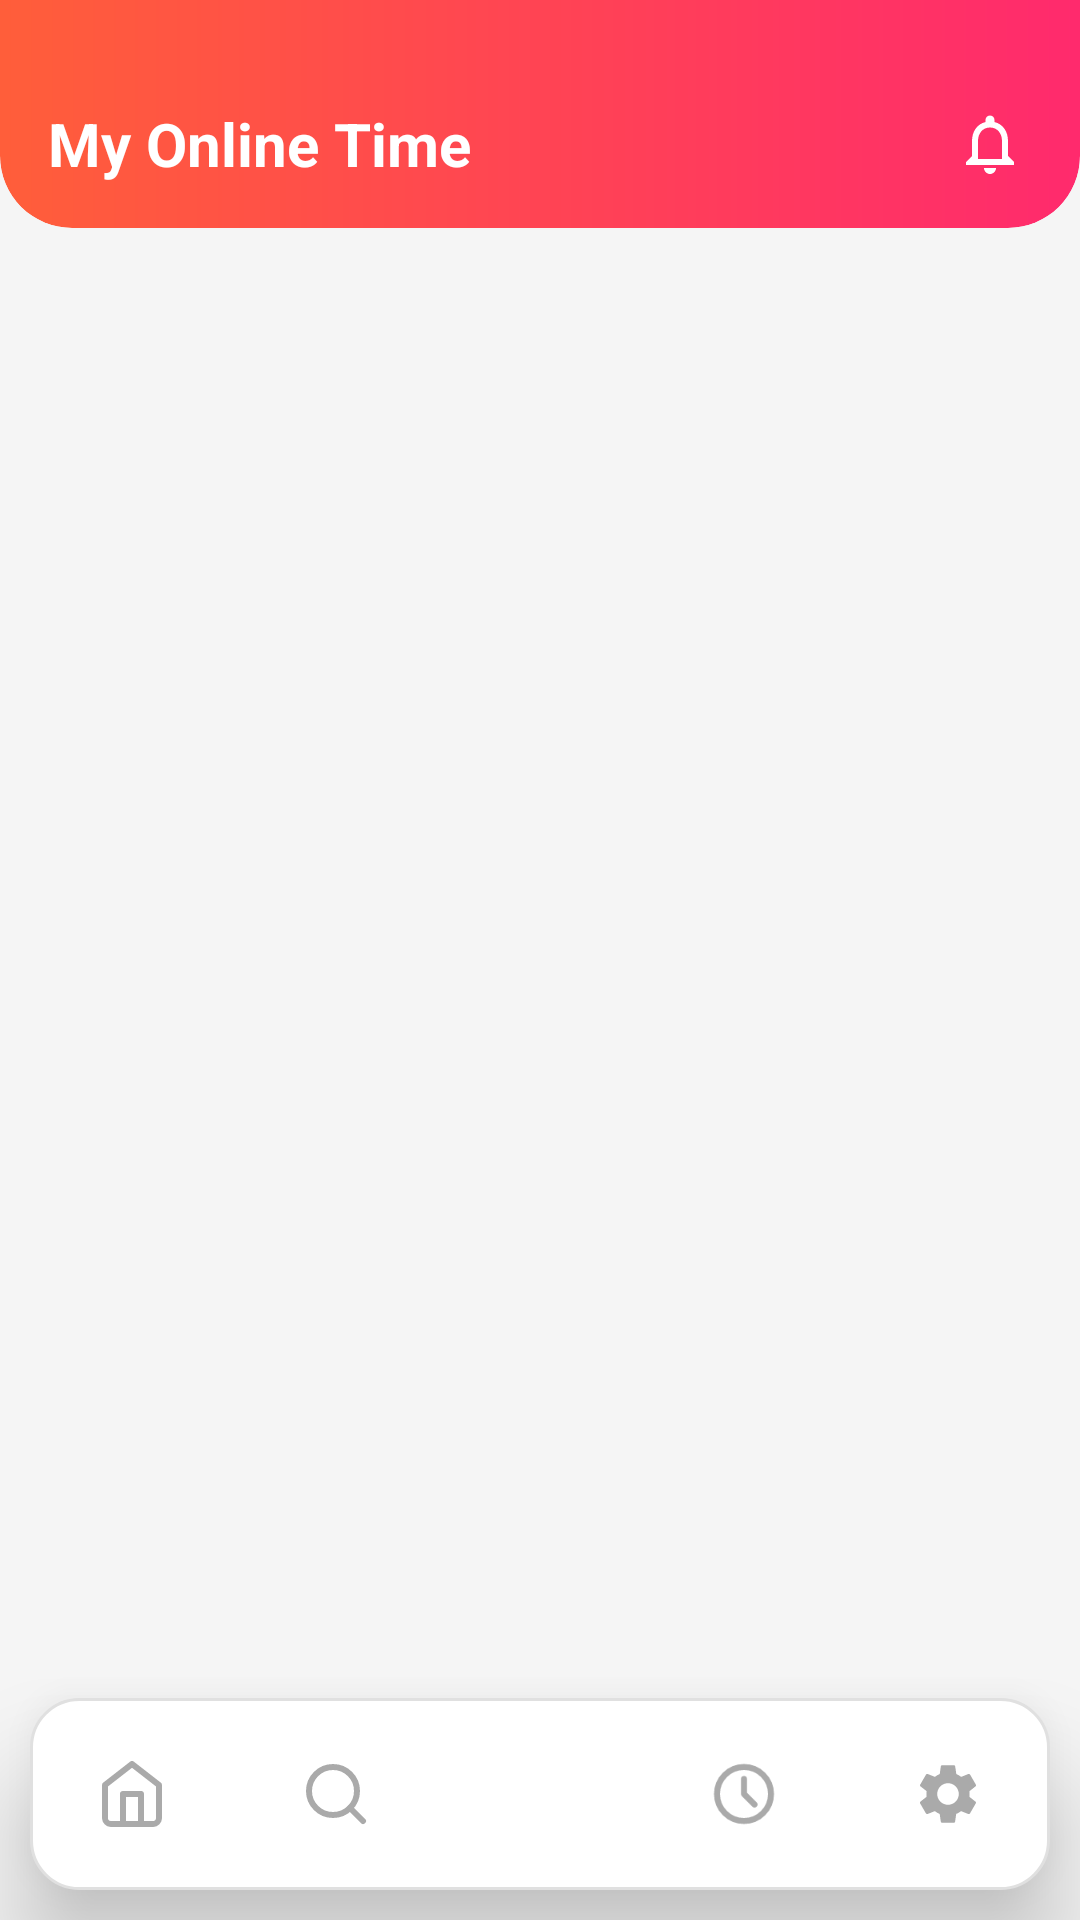

Icons on this 1080x1920 Android screen, each with its box as {"x1": x1, "y1": y1, "x2": x2, "y2": y2}:
bell: {"x1": 966, "y1": 115, "x2": 1014, "y2": 174}
feed: {"x1": 102, "y1": 1761, "x2": 162, "y2": 1827}
search: {"x1": 306, "y1": 1764, "x2": 366, "y2": 1824}
settings: {"x1": 920, "y1": 1765, "x2": 976, "y2": 1823}
time: {"x1": 714, "y1": 1764, "x2": 774, "y2": 1824}
